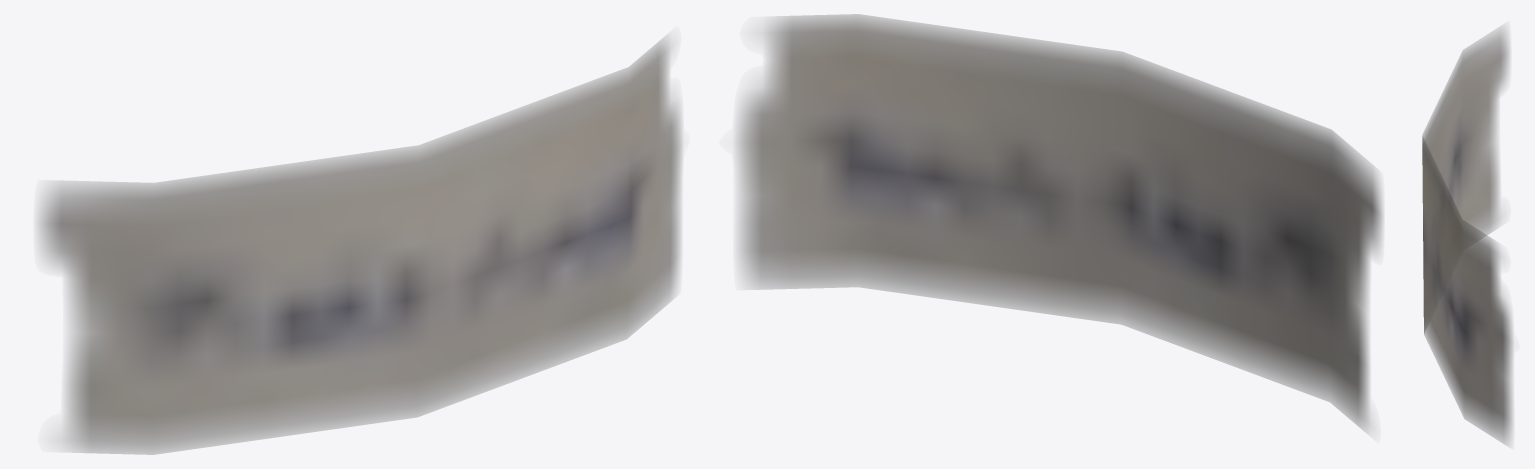
The model's file is bottle_label_b.glb.
3 renders of one model, left to right at view 1: azimuth 30°, elevation 25°; view 2: azimuth 150°, elevation 25°; view 3: azimuth 270°, elevation 25°, orthographic. The views are drawn at different scales.
Visible parts, largest first — view 1: chemistry_set_bottle_label_b.001; view 2: chemistry_set_bottle_label_b.001; view 3: chemistry_set_bottle_label_b.001.
Boxes of the visible parts, x1,y1,x2,y2 form: chemistry_set_bottle_label_b.001: (37, 37, 682, 454); chemistry_set_bottle_label_b.001: (736, 14, 1382, 431); chemistry_set_bottle_label_b.001: (1422, 27, 1512, 444).
Size of the model in its own units: 0.027 by 0.0104 by 0.00465.
Materials: 1 (1 with a texture image).
